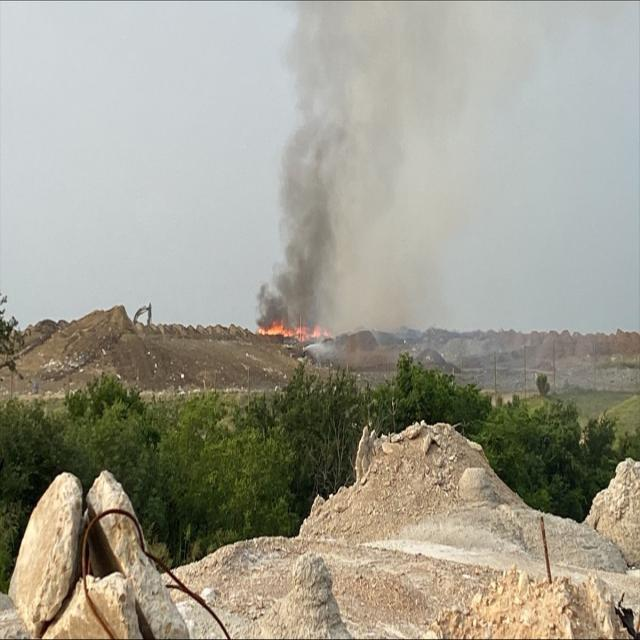Fire: (258, 320, 294, 340)
Smoke: (258, 98, 368, 313)
